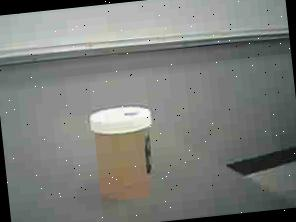Bottle B: (80, 94, 172, 211)
